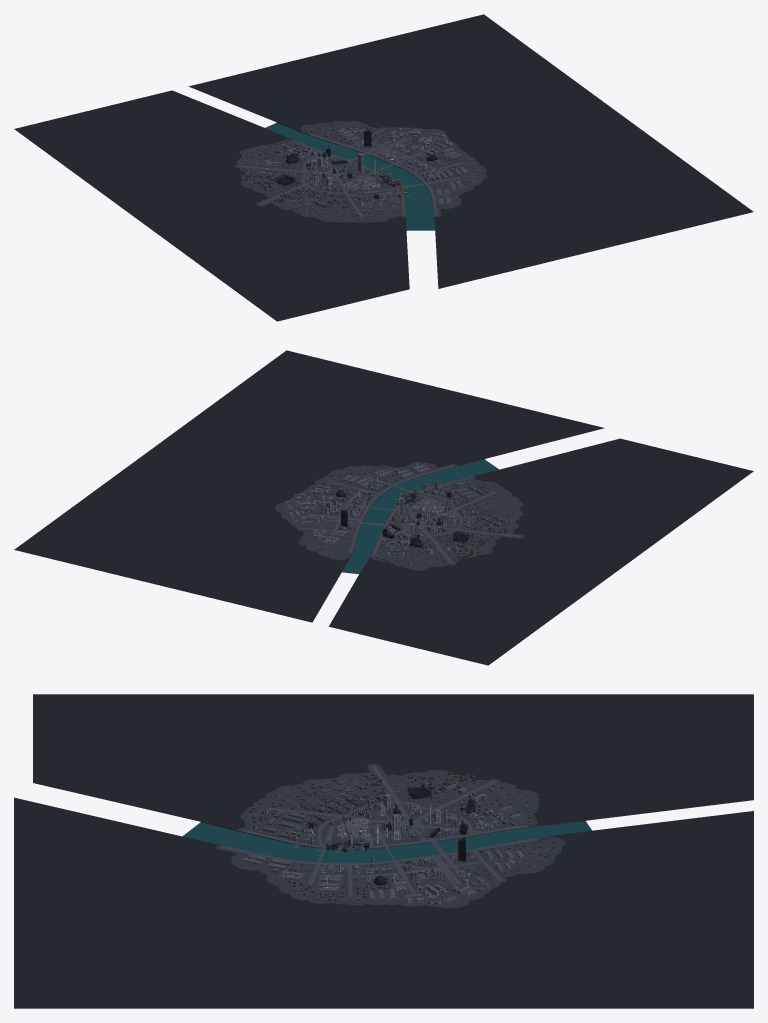
File: City.fbx
The picture shows the model from 3 angles, top to bottom: view 1: azimuth 30°, elevation 25°; view 2: azimuth 150°, elevation 25°; view 3: azimuth 270°, elevation 25°; orthographic projection. The views are drawn at different scales.
Visible parts, largest first — view 1: 郊野地面_东, 郊野地面_西, GROUND, BUILDINGS, PADS, 河面, 干道, 描线_always_填充; view 2: 郊野地面_东, 郊野地面_西, GROUND, BUILDINGS, PADS, 河面, 干道, 描线_always_填充; view 3: 郊野地面_东, 郊野地面_西, GROUND, BUILDINGS, PADS, 河面, 干道, 描线_always_填充, GREEN, ROOFTOPS.
Part boxes in pixels (<box>): 郊野地面_东: <box>188,14,753,288</box>; 郊野地面_西: <box>14,90,409,321</box>; GROUND: <box>234,121,487,222</box>; BUILDINGS: <box>243,122,478,220</box>; PADS: <box>243,122,480,221</box>; 河面: <box>265,123,434,230</box>; 干道: <box>238,128,464,217</box>; 描线_always_填充: <box>259,127,452,201</box>; 郊野地面_东: <box>14,350,604,622</box>; 郊野地面_西: <box>329,438,753,665</box>; GROUND: <box>275,462,524,570</box>; BUILDINGS: <box>286,464,516,567</box>; PADS: <box>282,467,518,568</box>; 河面: <box>342,459,498,573</box>; 干道: <box>300,465,519,563</box>; 描线_always_填充: <box>287,481,488,555</box>; 郊野地面_东: <box>14,797,753,1008</box>; 郊野地面_西: <box>33,694,753,848</box>; GROUND: <box>216,764,564,908</box>; BUILDINGS: <box>241,775,556,904</box>; PADS: <box>240,773,558,905</box>; 河面: <box>182,821,591,862</box>; 干道: <box>221,766,536,896</box>; 描线_always_填充: <box>296,784,523,903</box>; GREEN: <box>359,772,516,815</box>; ROOFTOPS: <box>246,777,518,895</box>.
Bounding box in the file's own units: 280000 × 10248 × 278685.
